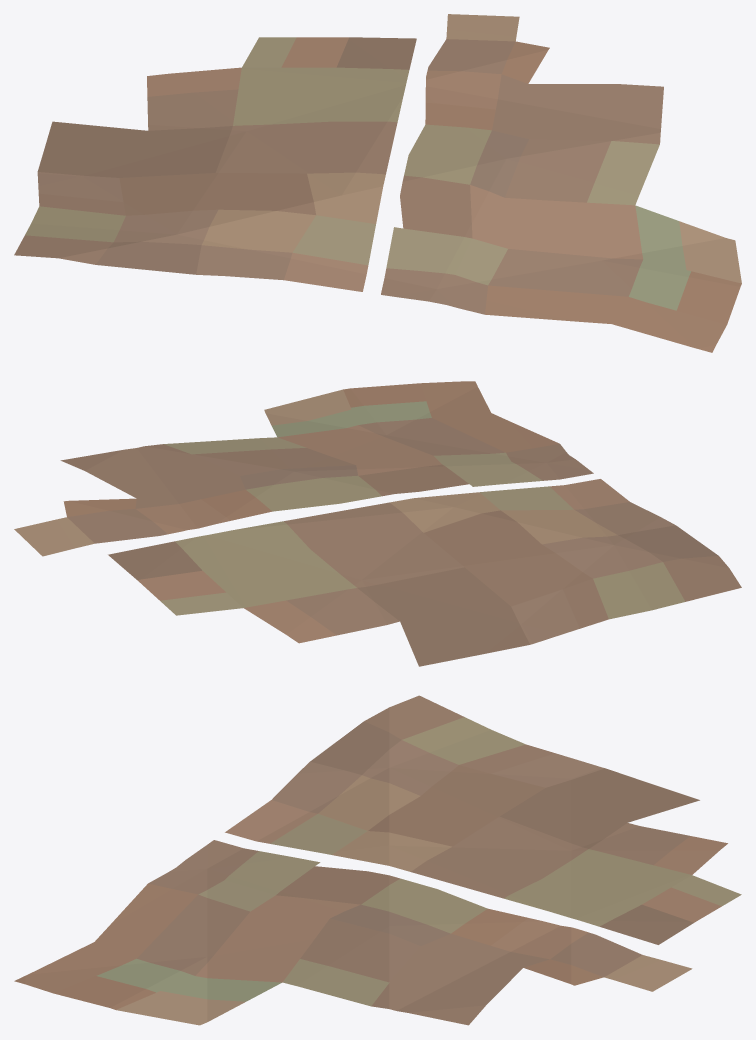
Rendered from farm_-10_-11_soil.glb.
3 views of the same model, one above another, from view 1: azimuth 30°, elevation 25°; view 2: azimuth 150°, elevation 25°; view 3: azimuth 270°, elevation 25° (orthographic). The views are drawn at different scales.
Visible parts, largest first — view 1: geometry_0; view 2: geometry_0; view 3: geometry_0.
Part boxes in pixels (x1=…): geometry_0: x1=14, y1=14, x2=741, y2=352; geometry_0: x1=14, y1=381, x2=741, y2=666; geometry_0: x1=14, y1=695, x2=741, y2=1025.
Size of the model in its own units: 328 by 29.12 by 320.
